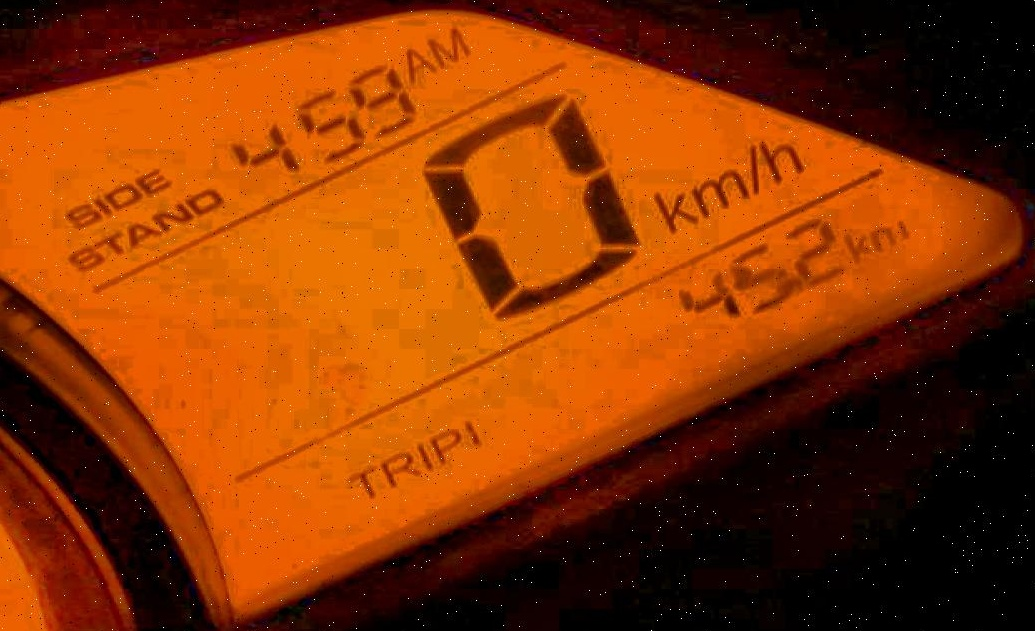-: (790, 276, 805, 295)
0: (422, 106, 645, 312)
2: (783, 214, 847, 285)
4: (229, 119, 304, 174), (670, 276, 744, 323)
5: (292, 91, 365, 161), (727, 239, 792, 314)
9: (350, 64, 417, 129)
X: (757, 133, 812, 186), (685, 172, 749, 215), (429, 25, 474, 66), (649, 187, 689, 230), (377, 447, 417, 485), (339, 465, 380, 500), (737, 143, 765, 194), (184, 184, 224, 219), (400, 45, 437, 79), (429, 426, 460, 465), (63, 244, 102, 273), (152, 201, 190, 230), (60, 200, 95, 230), (870, 224, 910, 248), (127, 217, 160, 246), (104, 181, 139, 207), (134, 167, 170, 191), (92, 229, 122, 256), (410, 438, 432, 474), (842, 230, 867, 261), (90, 195, 109, 217)
